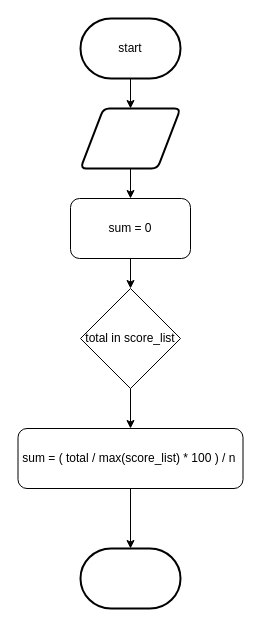
Some shapes in this 260 by 626 pixel diagram are drawn without their labels. The centre of each missing label's shape, as x and y in pixels:
"finish" belongs at (130,578).
"score_list" belongs at (130,138).
